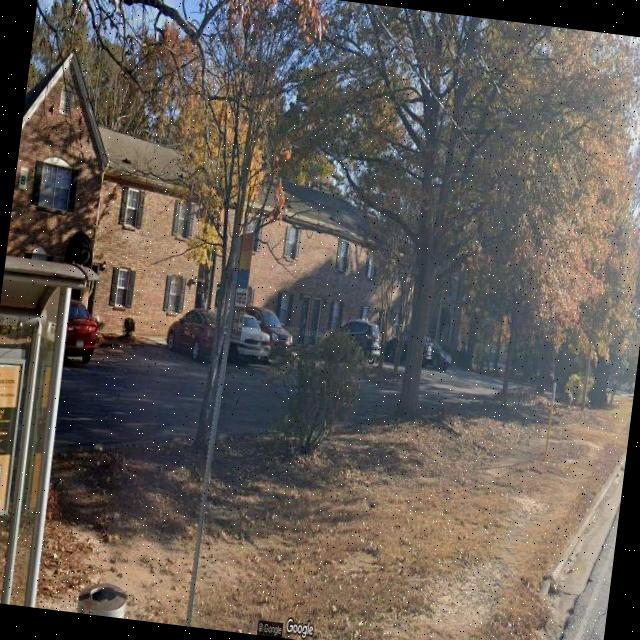shelter: (0, 254, 101, 610)
trash_can: (76, 578, 129, 618)
